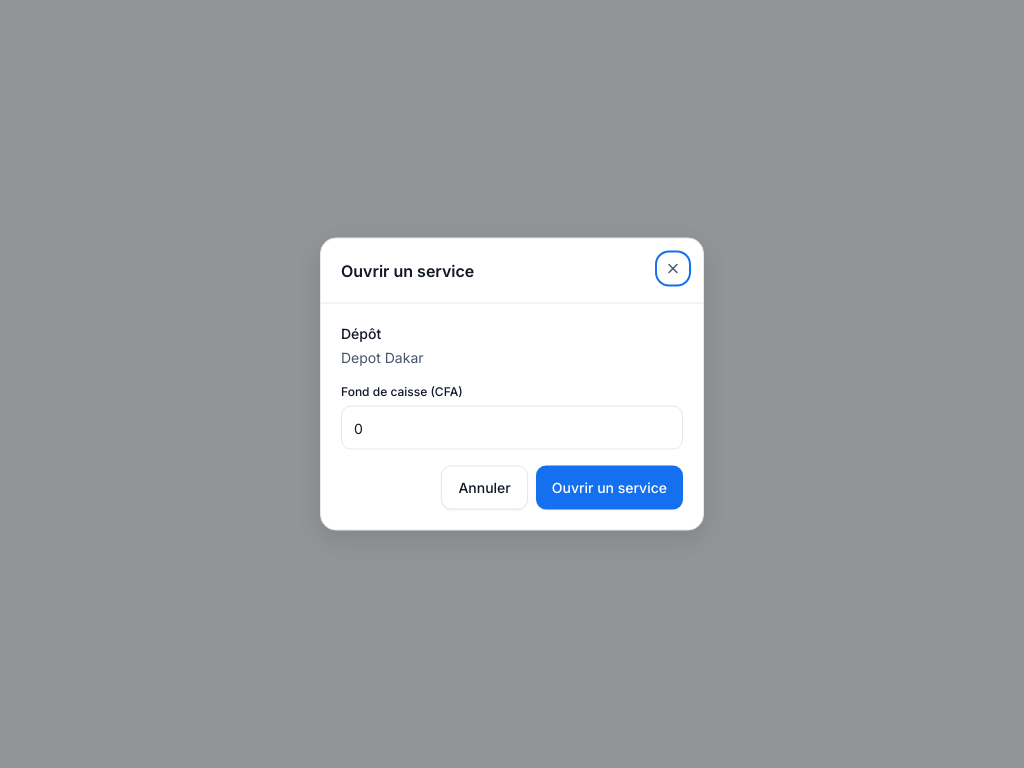
Test: OpenShiftModal › shows mapped error on failure without binding POS
Click the button "Ouvrir un service" at coordinates (609, 488), box [536,466,683,510]
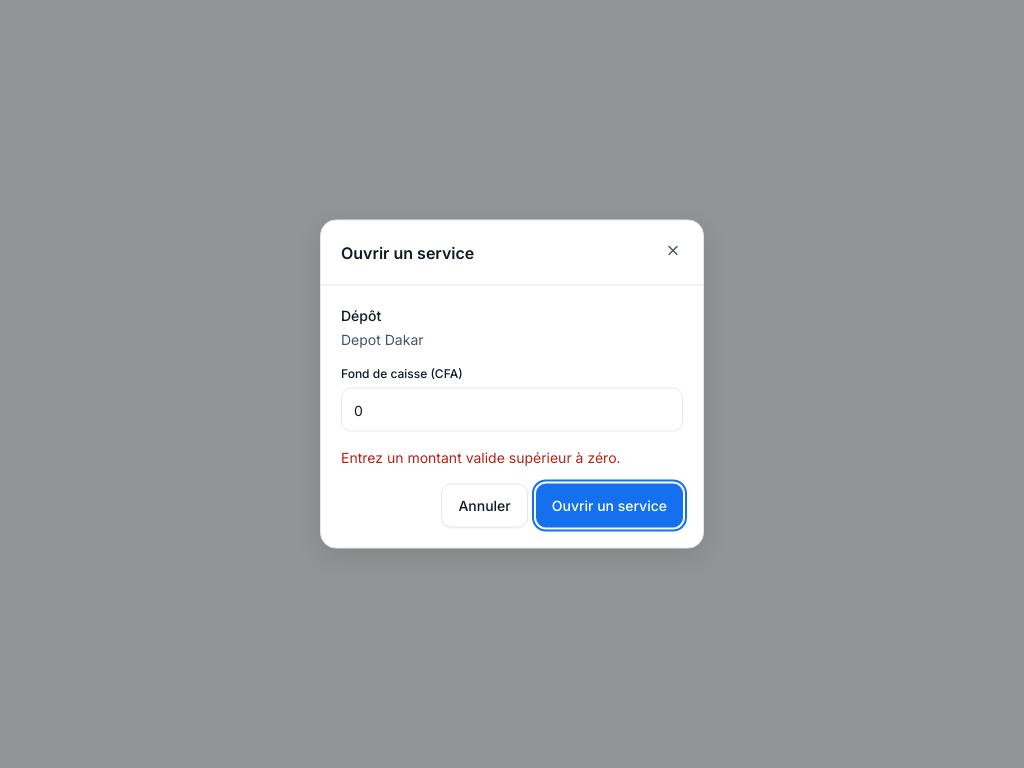
Expected: the text "Entrez un montant valide supérieur à zéro." is shown, [341,448,621,466]
